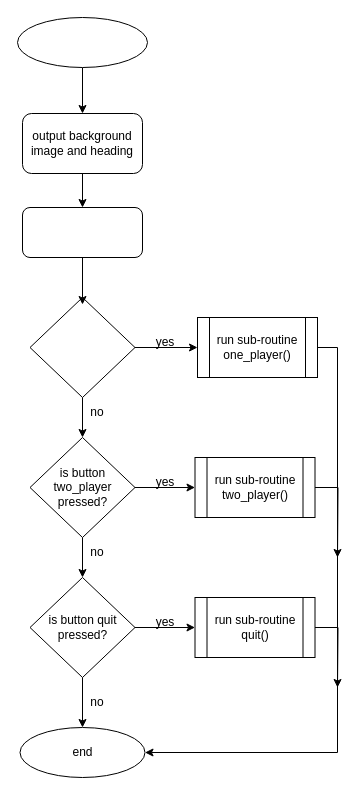
Some shapes in this 364 by 795 pixel diagram are drawn without their labels. Each missing label, with the centre of its shape:
"is button one_player pressed?" belongs at (x=82, y=347).
"output buttons, one_player, two_player, and quit" belongs at (x=82, y=232).
"start" belongs at (x=82, y=42).
